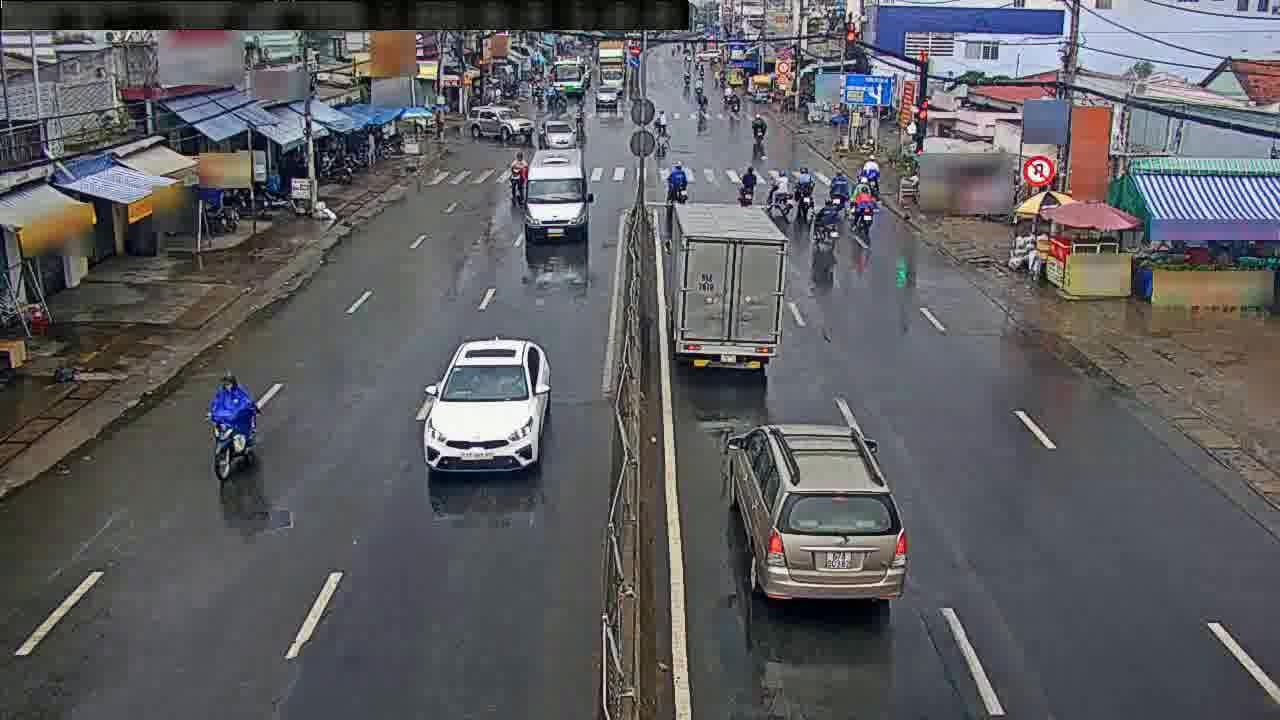14: (524, 150, 589, 240)
8: (673, 200, 781, 374)
container: (725, 421, 909, 605), (422, 337, 554, 483), (460, 100, 537, 144), (538, 120, 577, 151), (586, 82, 622, 107)
motorbike: (204, 368, 265, 479), (852, 189, 882, 245), (766, 169, 795, 222), (809, 201, 837, 247), (738, 159, 762, 211), (826, 169, 851, 209), (669, 159, 690, 205), (794, 163, 814, 209), (858, 151, 880, 182)
